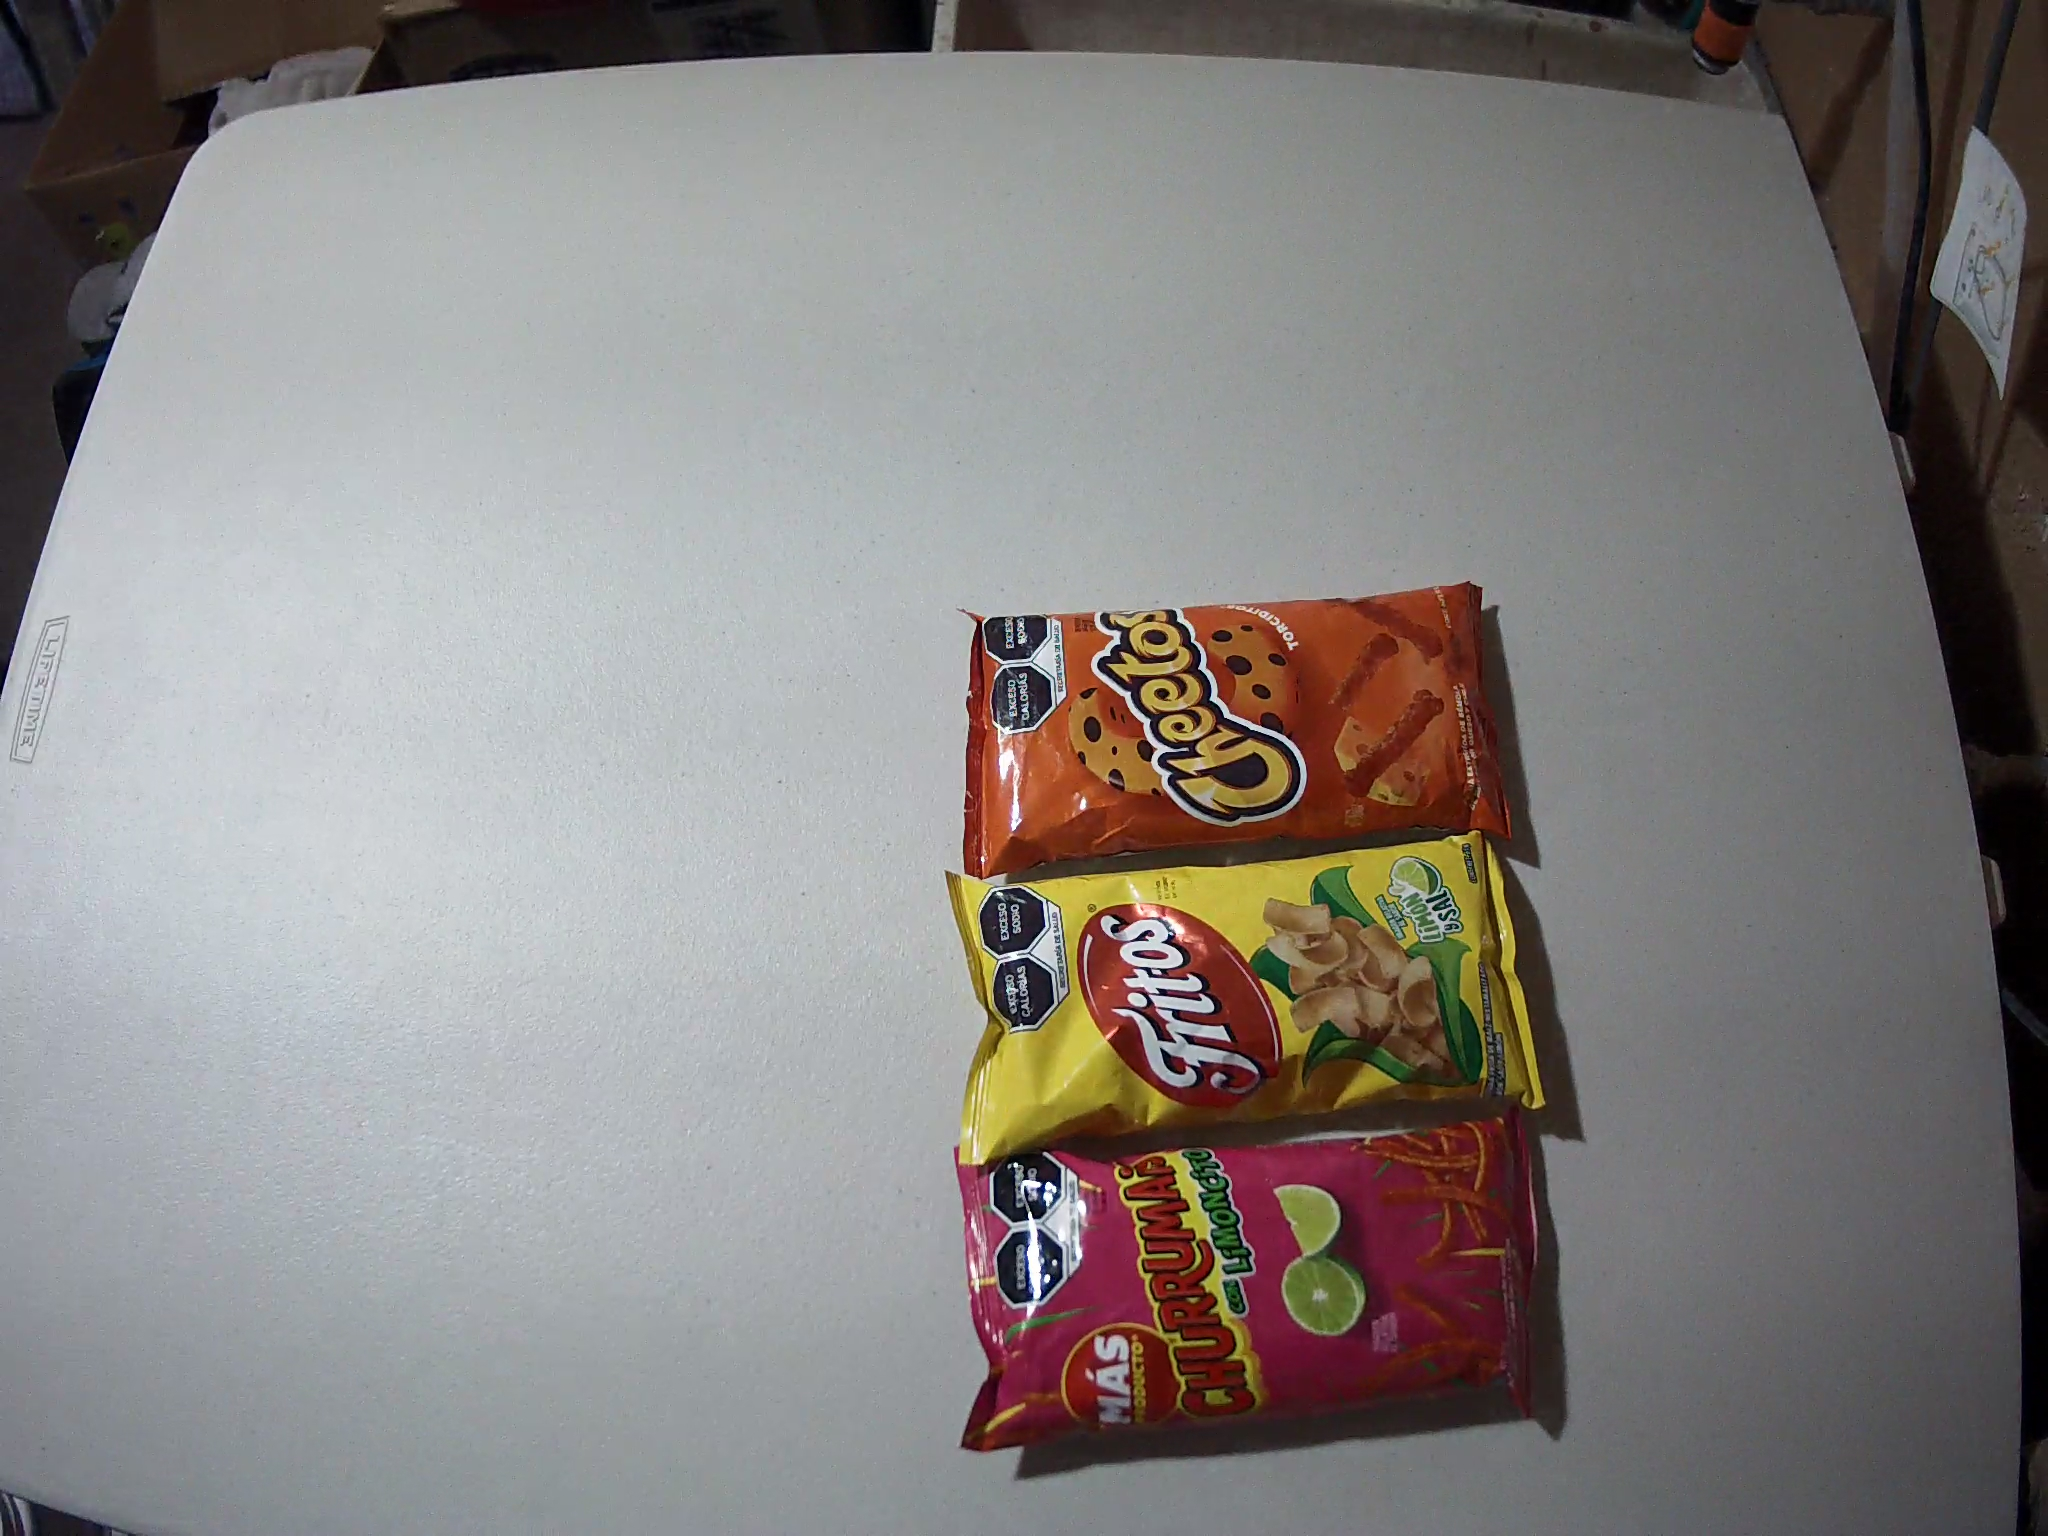CheetosTorciditos_55_F: (955, 581, 1517, 879)
Churrumais_70_F: (951, 1108, 1545, 1455)
FritosSalLimon_65_F: (947, 833, 1550, 1162)
